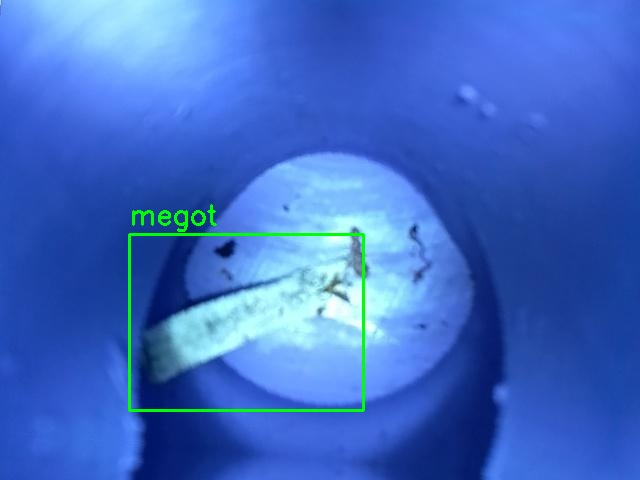megot: (129, 234, 363, 410)
